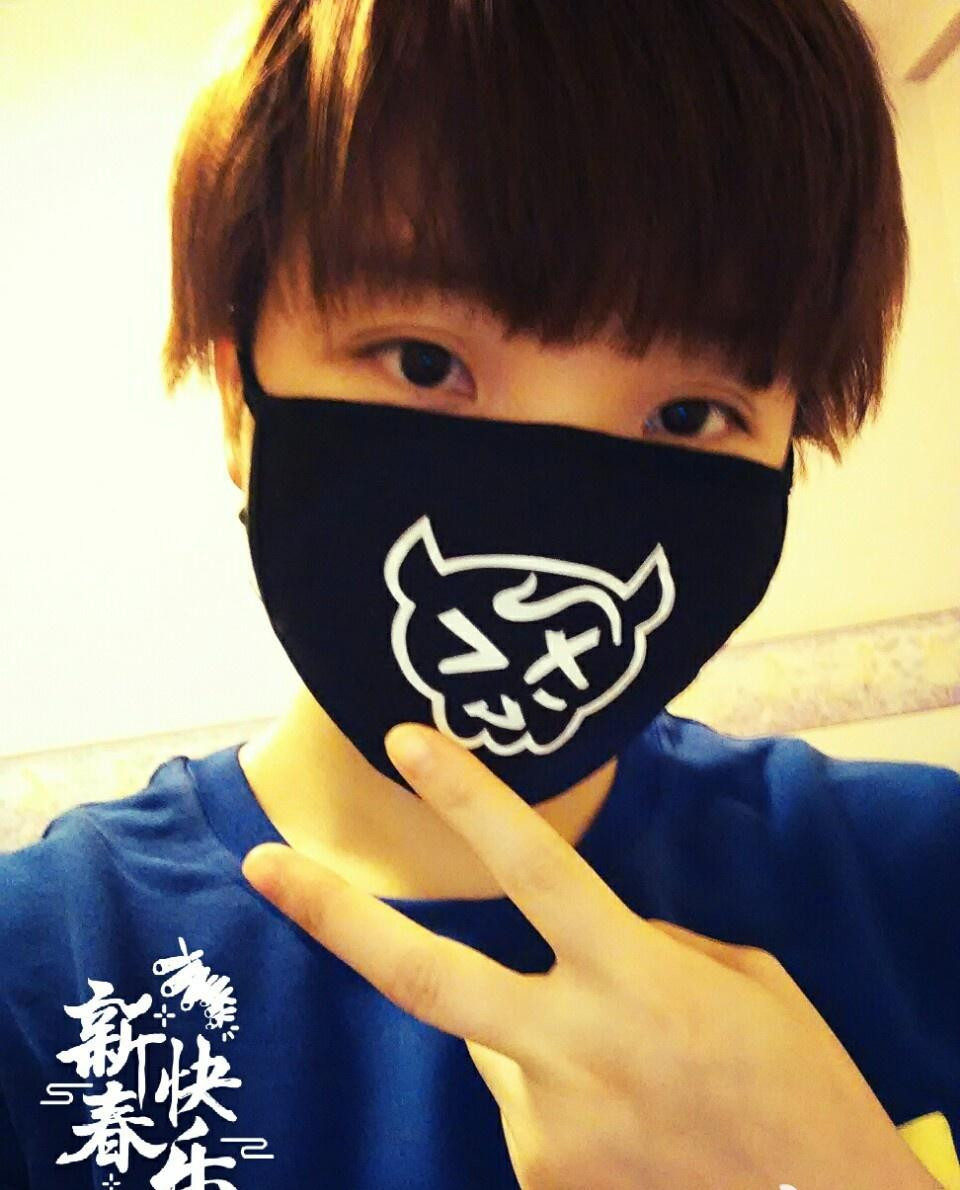OK: (243, 200, 821, 778)
